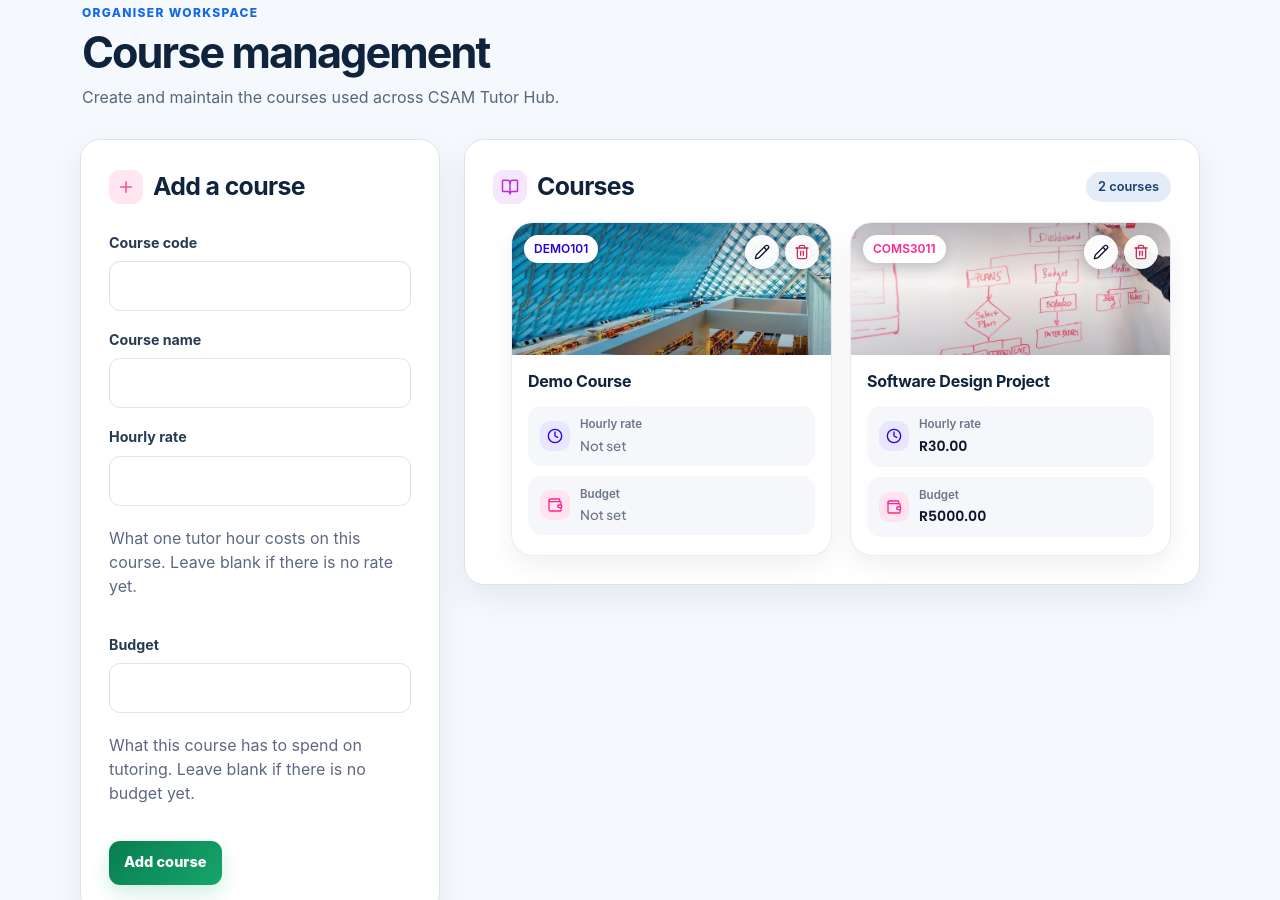
CourseManagement create, edit and delete › sends a trimmed create payload and refreshes the list
Expected: the list named "courses currently set up" is shown, [493,222,1171,556]
Type "  NEW100  " into the field labelled "Course code" at (260, 286), box [109,261,411,311]
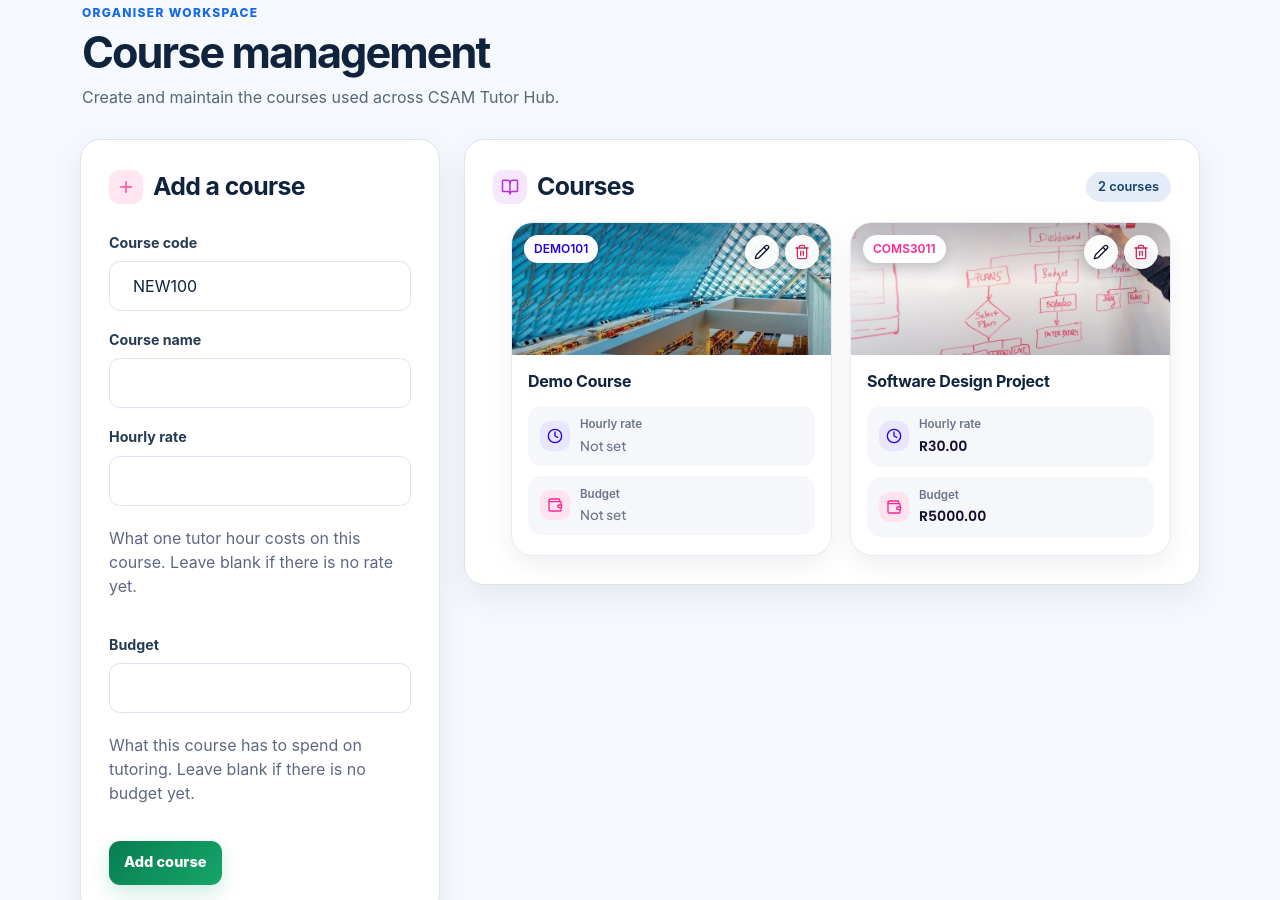
Type "  New Course  " into the field labelled "Course name" at (260, 383), box [109,358,411,408]
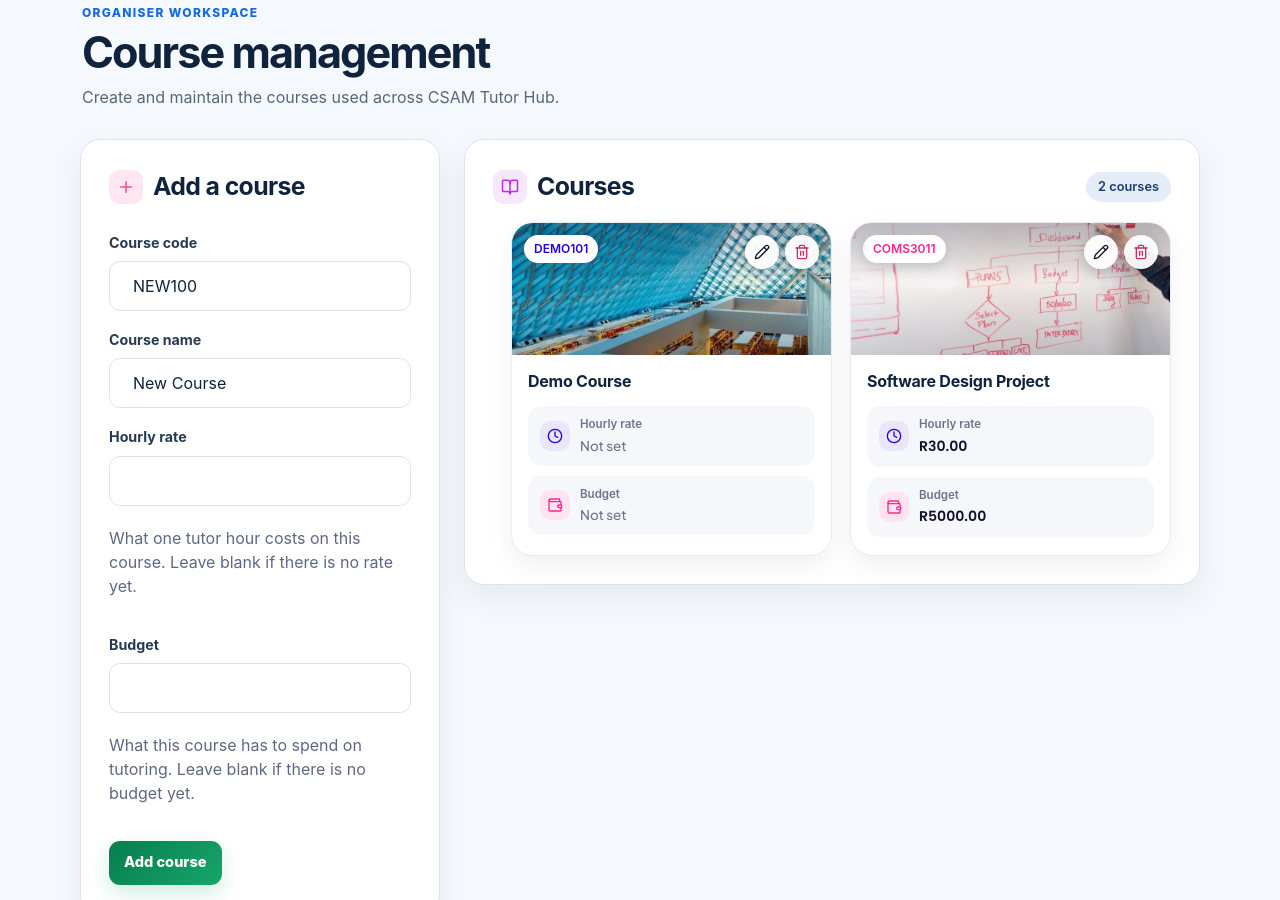
Click the button "Add course" at (165, 863), box [109,841,222,885]
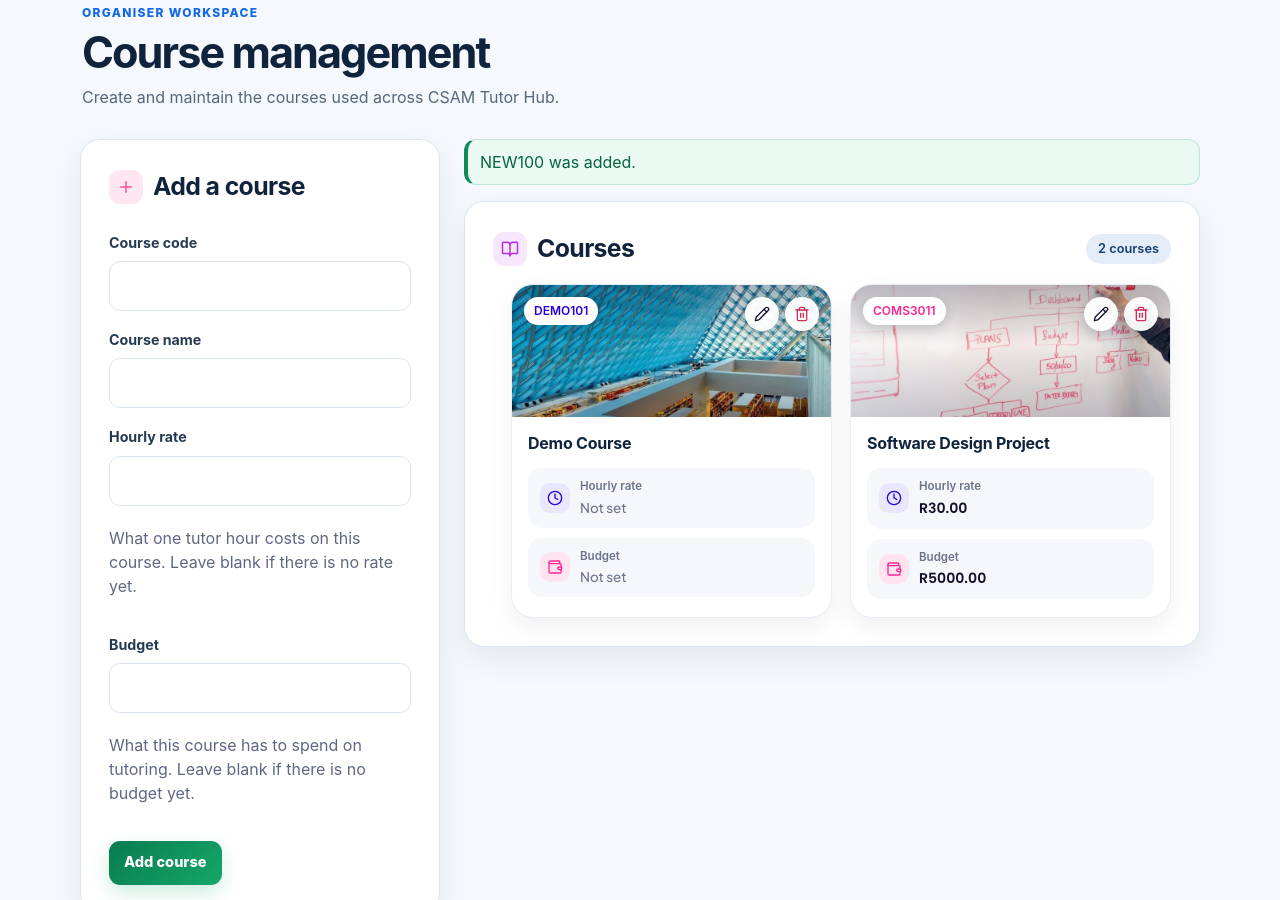
Expected: the text "NEW100 was added." is shown, [464,140,1200,186]
